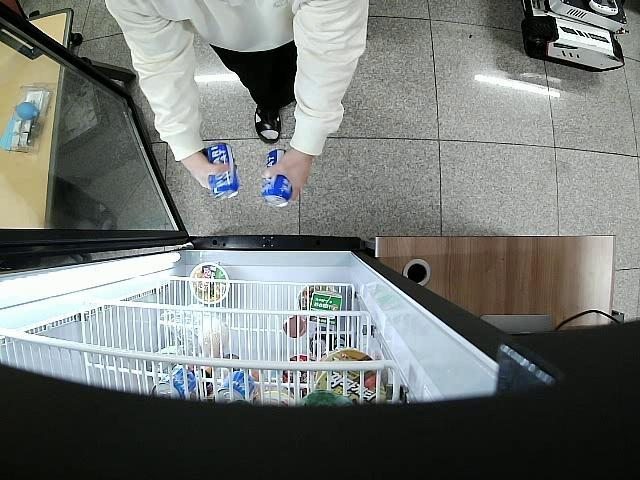13_pocariSweat: (200, 141, 239, 202), (260, 147, 292, 208)
